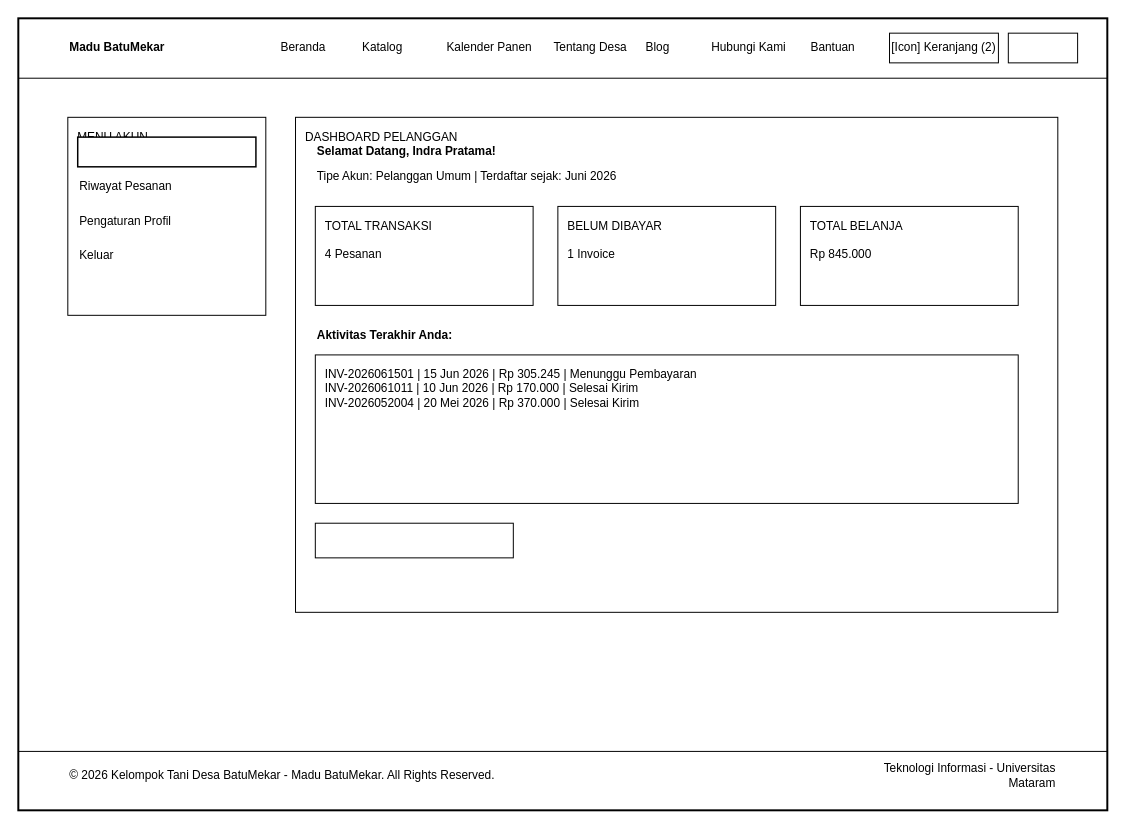
This 1125x828 diagram has some shape labels left out. Here are the shapes that lost their labels. From the top down, the centre of each, then its label:
(x=1042, y=47): [Icon] Akun
(x=166, y=151): Dashboard Saya
(x=413, y=540): Lihat Semua Pesanan Saya
